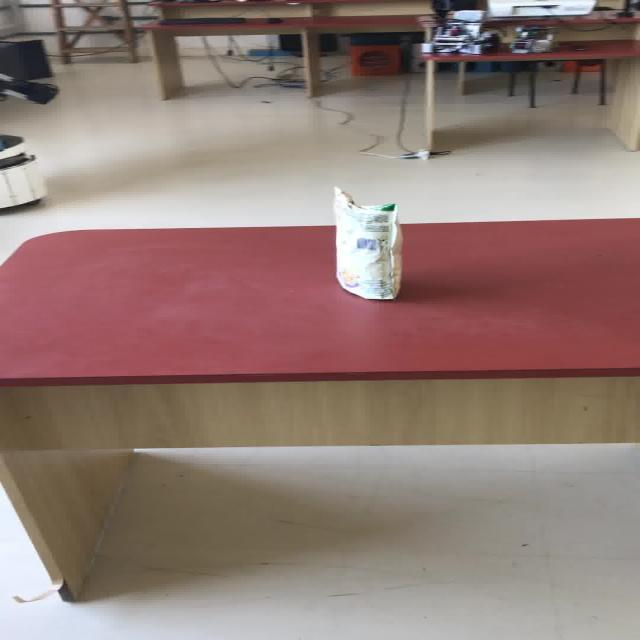corn flakes: (330, 186, 402, 300)
